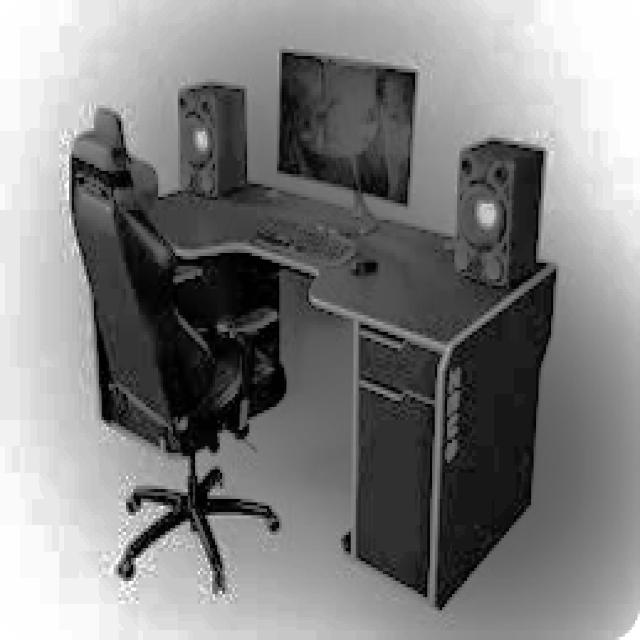book: (67, 105, 284, 594)
table: (146, 174, 556, 607)
